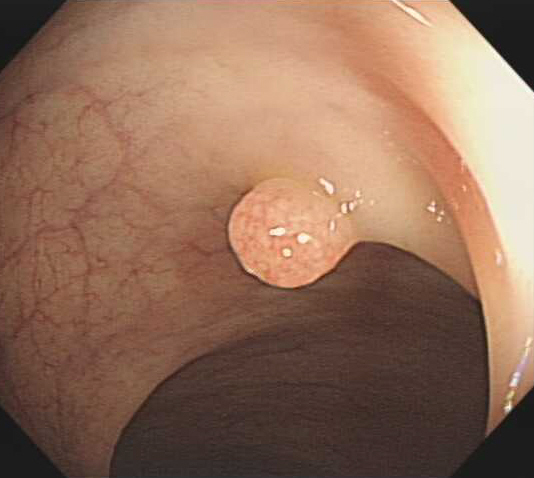others: (223, 172, 359, 293)
